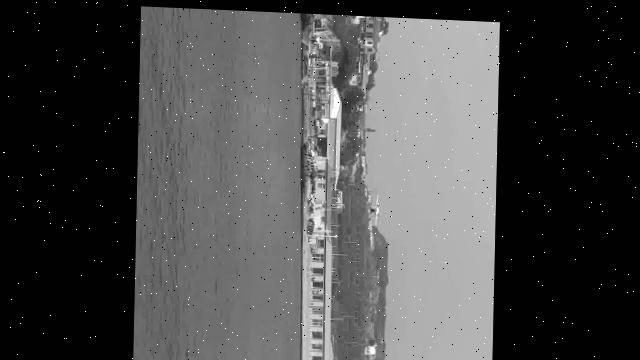drone: (367, 189, 384, 226)
